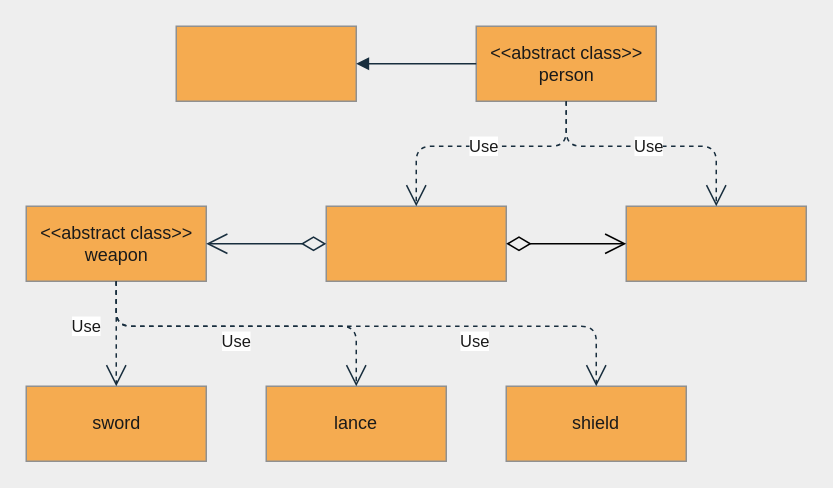
The diagram is 833 pixels wide and 488 high, and some of its shapes have lost their labels. The box of each missing label's shape, as (x1, y1, x2, y2) in pixels:
knight: (325, 205, 506, 281)
participant: (175, 25, 356, 101)
scarce: (625, 205, 806, 281)
